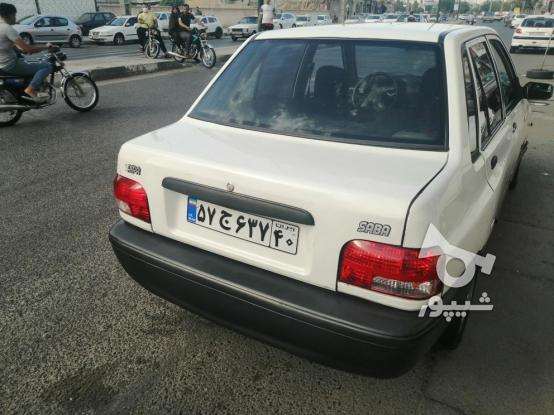car: (185, 195, 301, 257)
